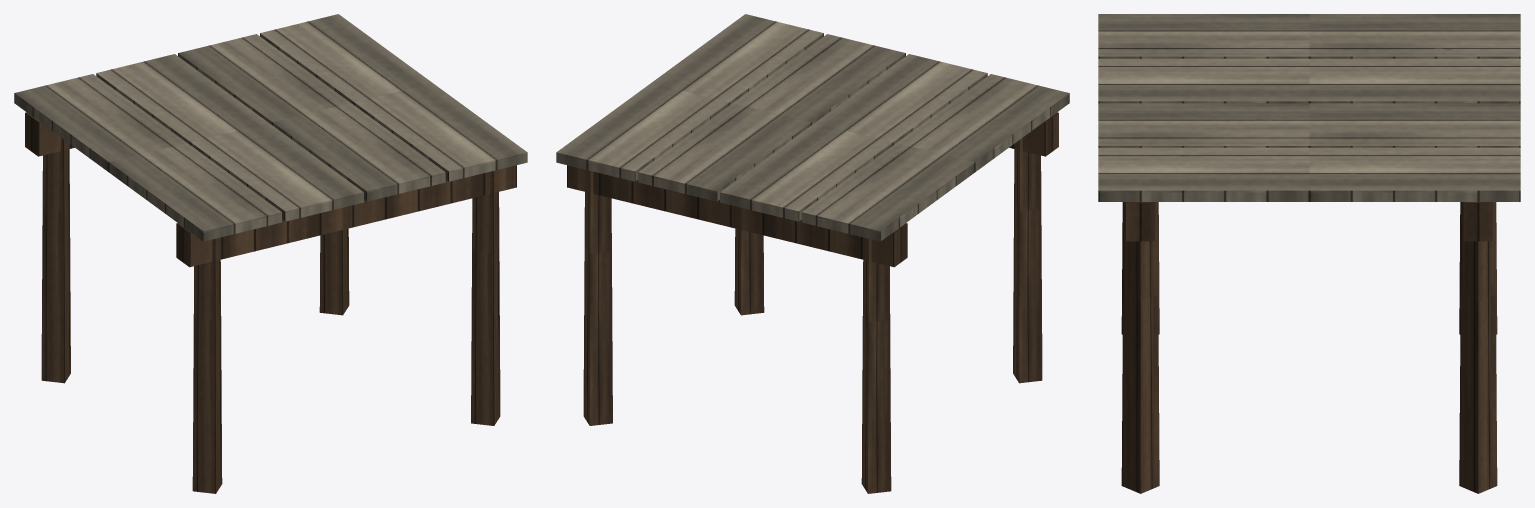
The model's file is Boardwalk_Deck_1_LOD1.gltf.
3 renders of one model, left to right at view 1: azimuth 30°, elevation 25°; view 2: azimuth 150°, elevation 25°; view 3: azimuth 270°, elevation 25°, orthographic. The views are drawn at different scales.
Visible parts, largest first — view 1: Boardwalk_Deck_1_LOD1; view 2: Boardwalk_Deck_1_LOD1; view 3: Boardwalk_Deck_1_LOD1.
Part boxes in pixels (x1,y1,x2,y2): Boardwalk_Deck_1_LOD1: [14, 14, 527, 493]; Boardwalk_Deck_1_LOD1: [556, 14, 1069, 493]; Boardwalk_Deck_1_LOD1: [1098, 14, 1520, 493].
Bounding box in the file's own units: 2 × 1.61 × 2.
2 materials, 2 textured.
